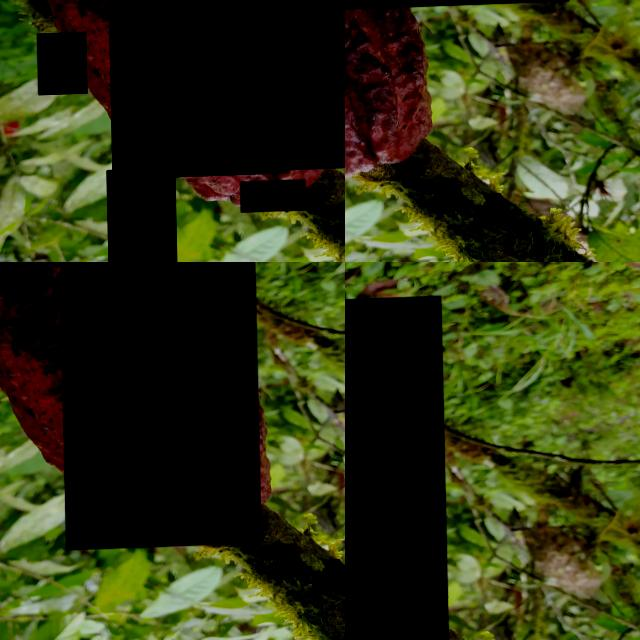Fitoftora: (345, 299, 446, 640)
Monilia: (57, 262, 258, 551), (106, 0, 287, 181)
Sana: (226, 0, 345, 174), (104, 169, 175, 262), (36, 33, 86, 96), (238, 182, 303, 215)
